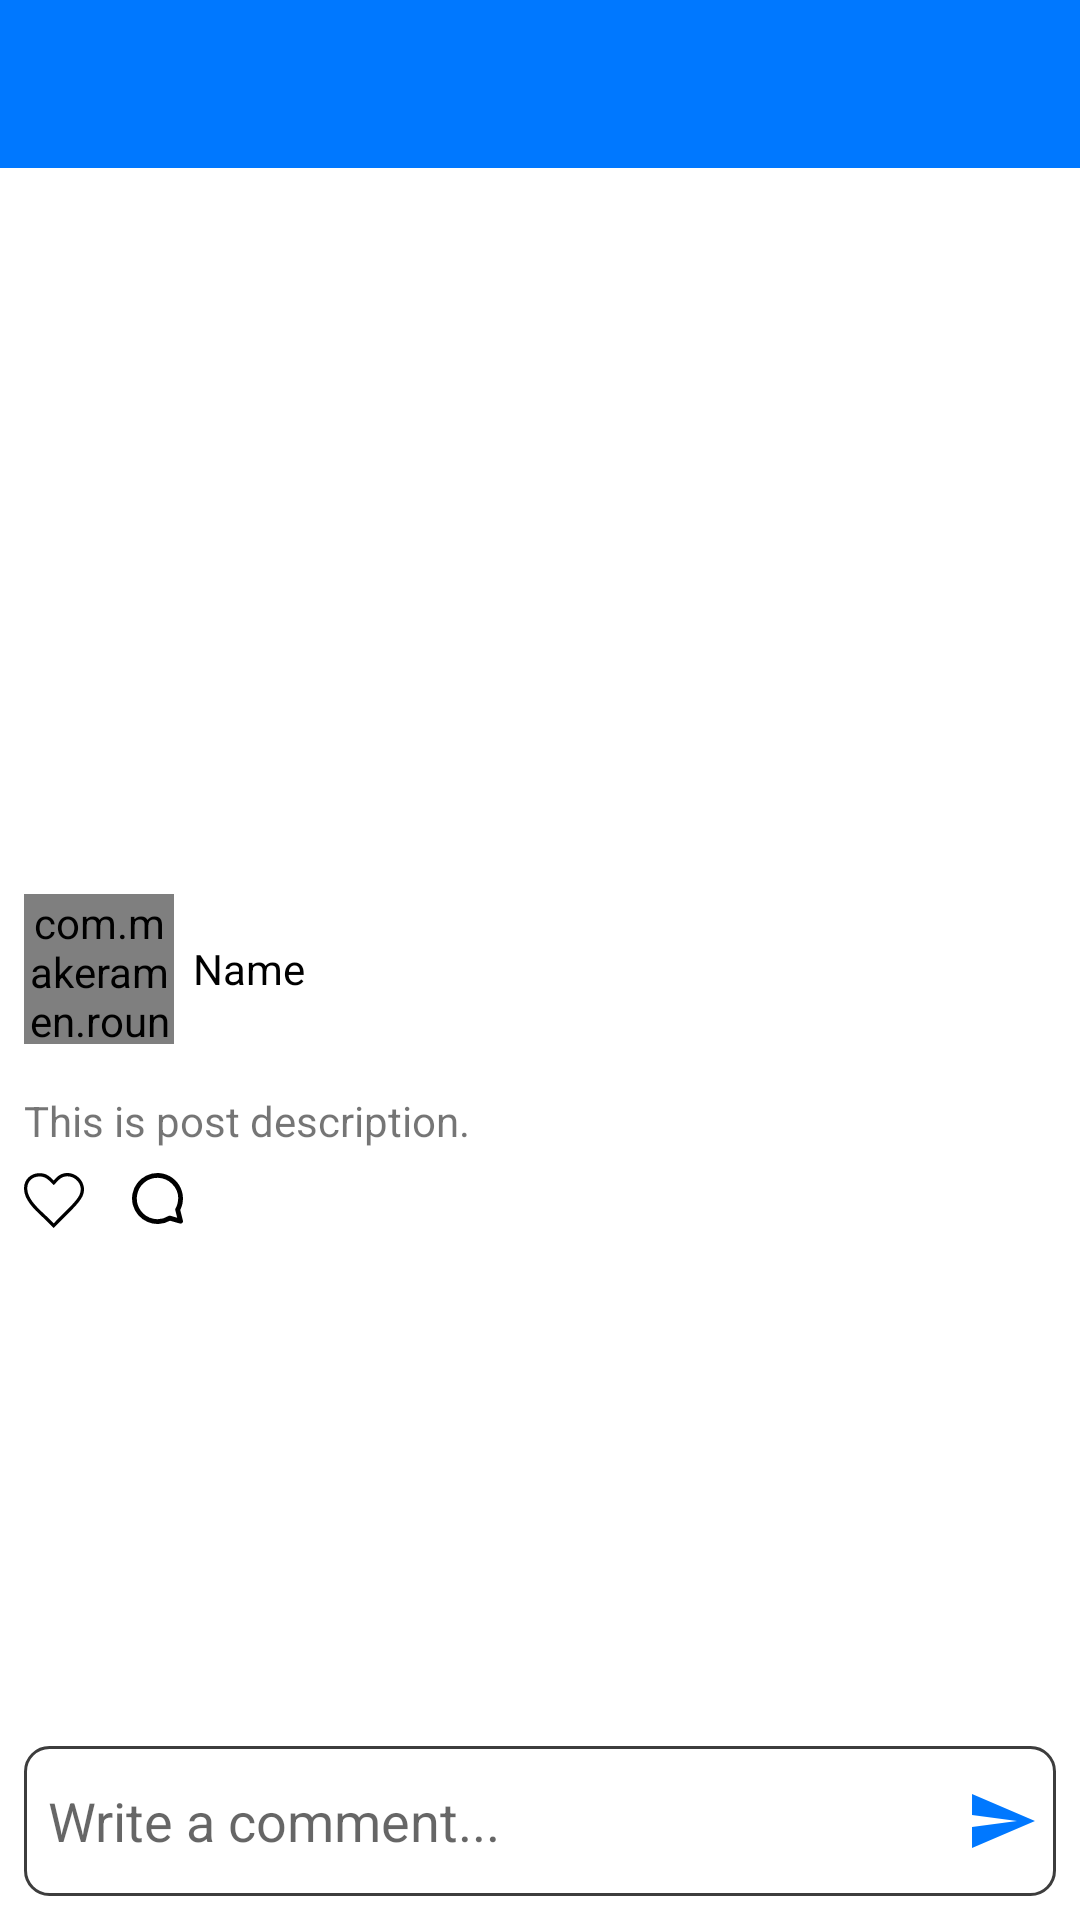

Locate icon controls on the screen. Image size 1080x1920, boxes as box(x1, y1, x2, y2).
send: box(972, 1794, 1035, 1848)
